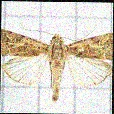Spodoptera litura: (1, 22, 113, 102)
